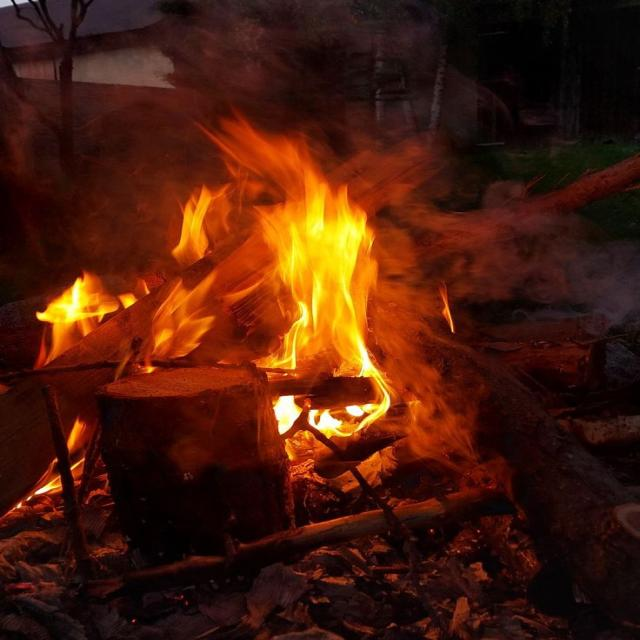fire: (32, 106, 391, 442)
